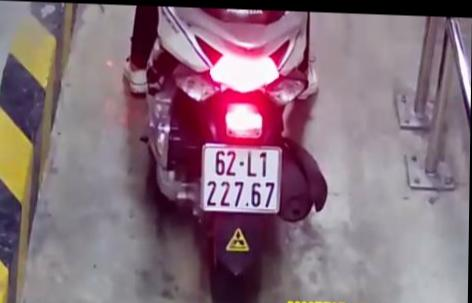LP: (202, 140, 282, 213)
